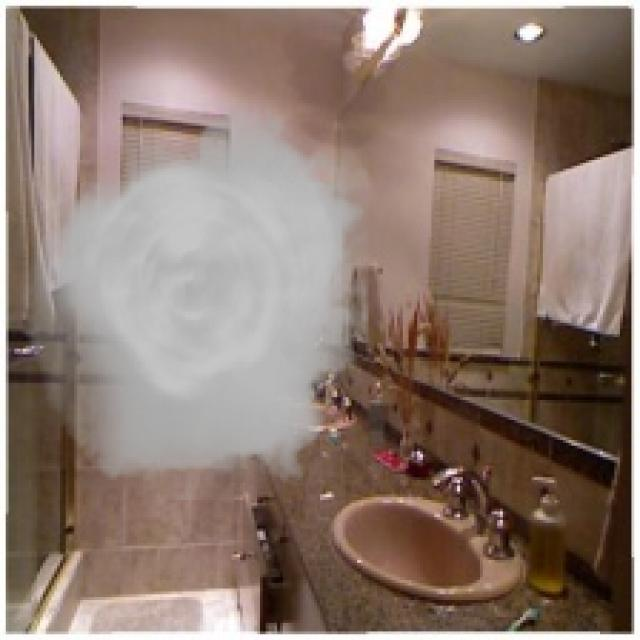smoke: (26, 94, 368, 500)
